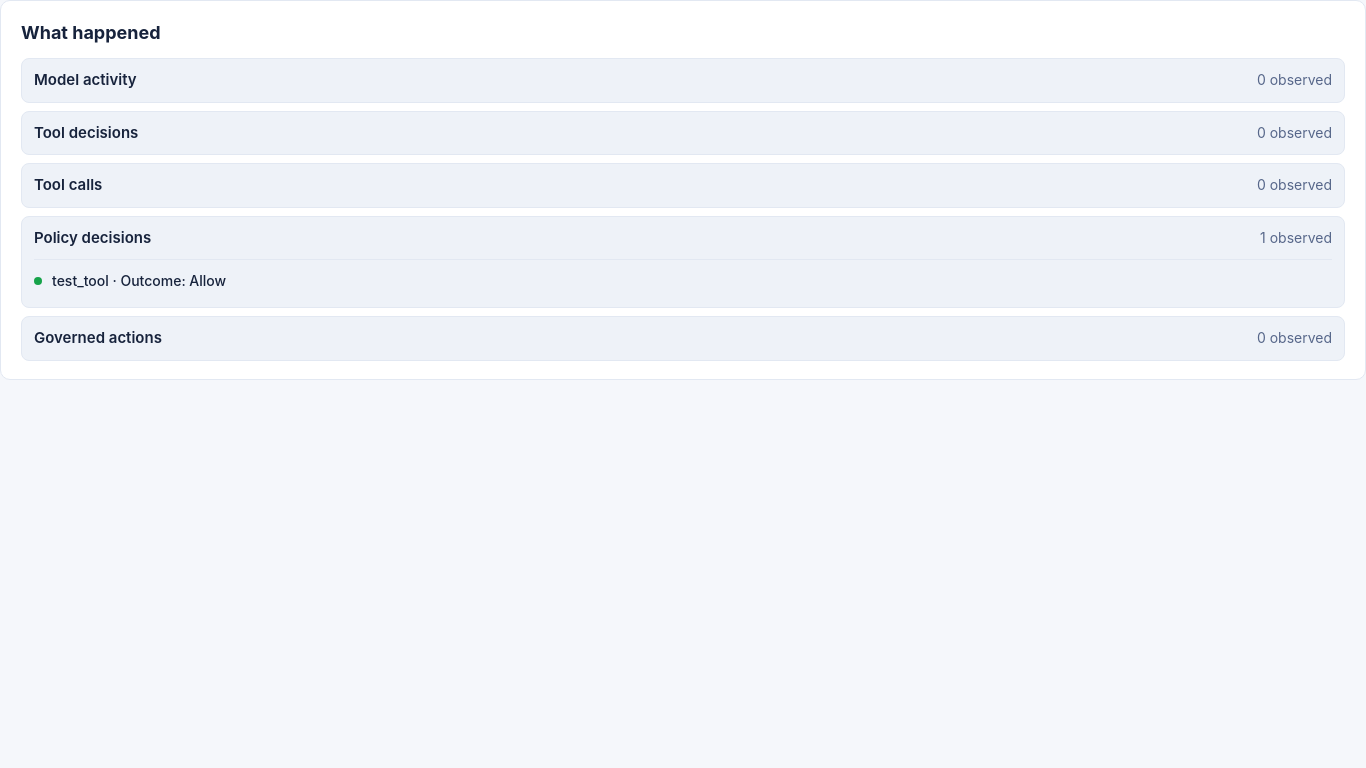
Test: AssignmentActivitySummary › renders expandable policy decision records
# Expand and check for fields
Click the heading "test_tool · Outcome: Allow".
click(139, 280)  # box [52,272,226,289]
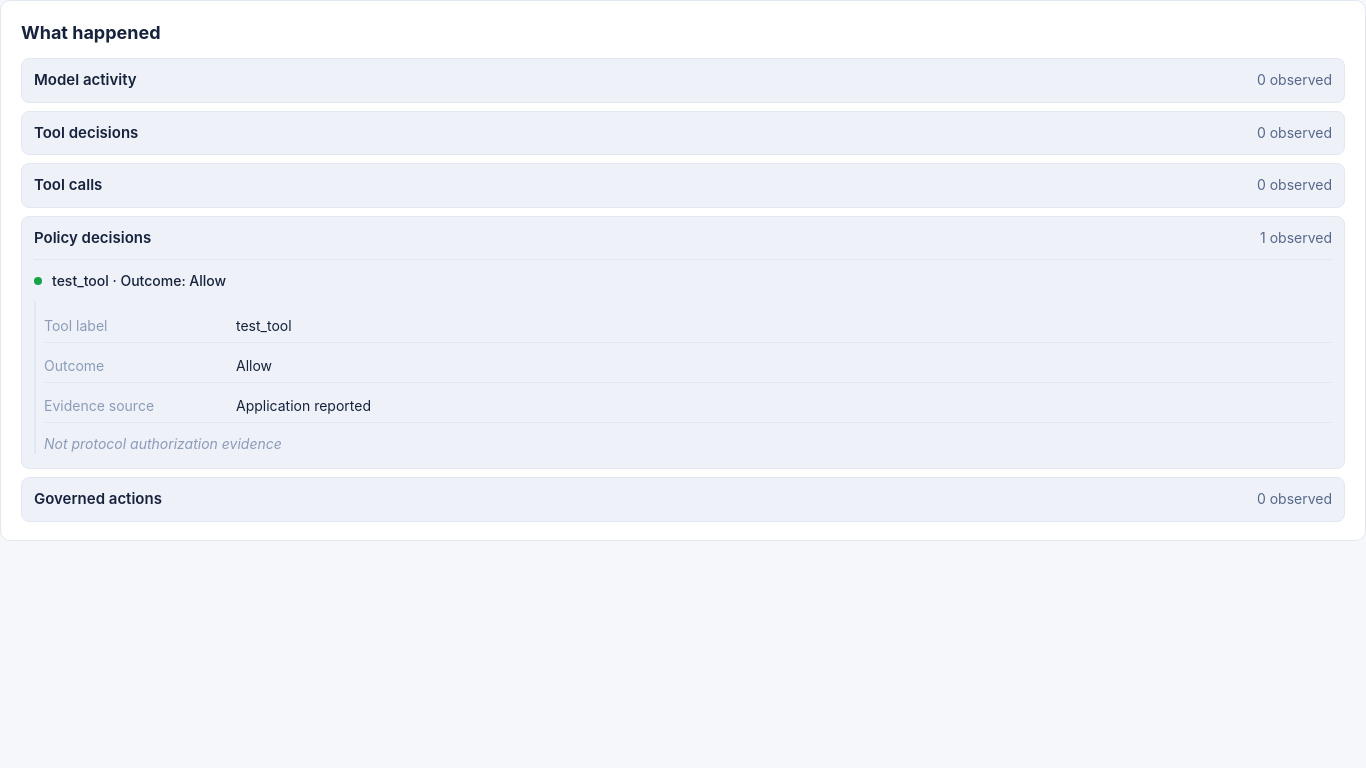
Expected: the text "Tool label" is shown, [44,317,107,334]
Expected: the text "Outcome" is shown, [44,357,104,374]
